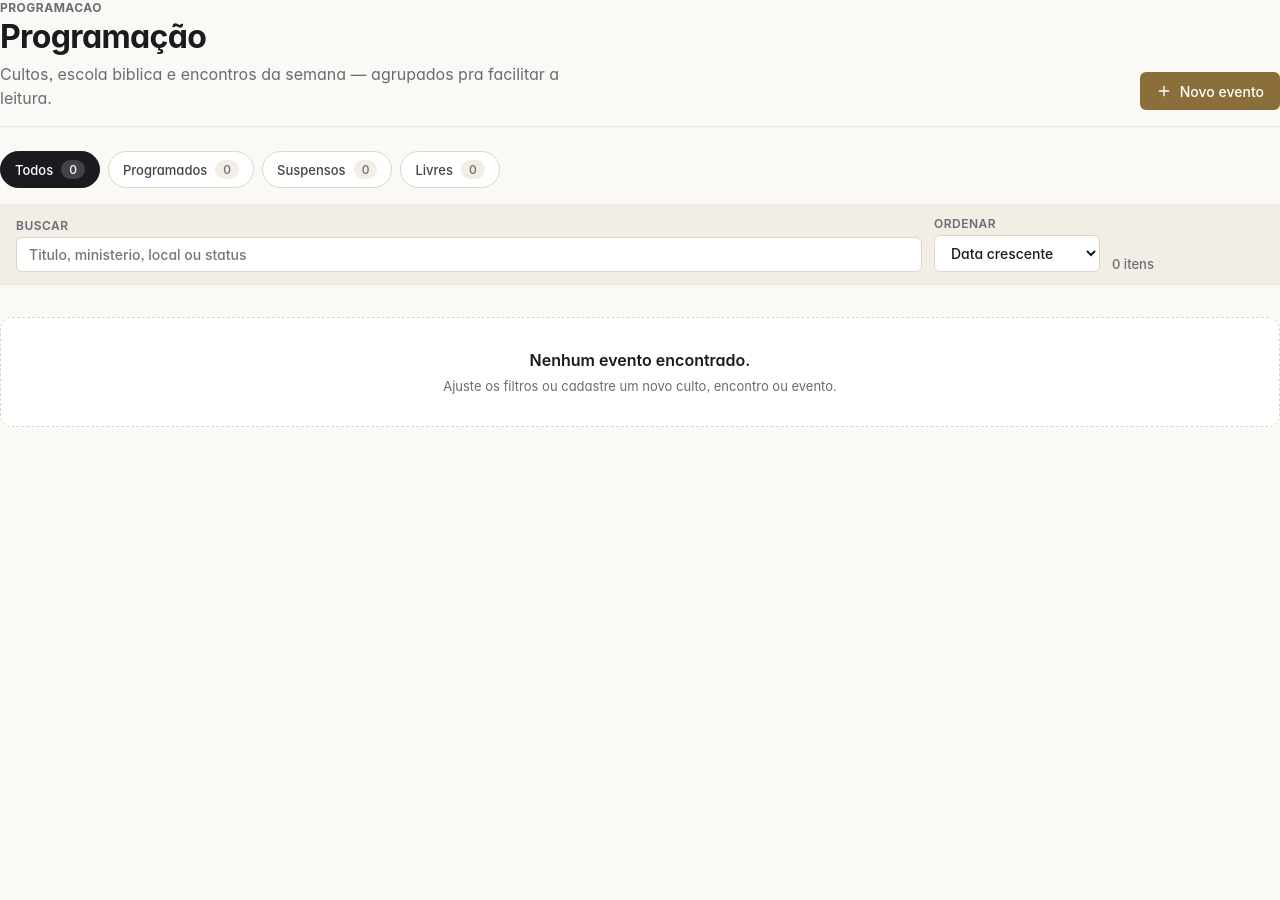
Test: ScheduleView form › shows a danger toast when save fails
Click the button "Novo evento".
click(1210, 91)  # box [1140,72,1279,110]
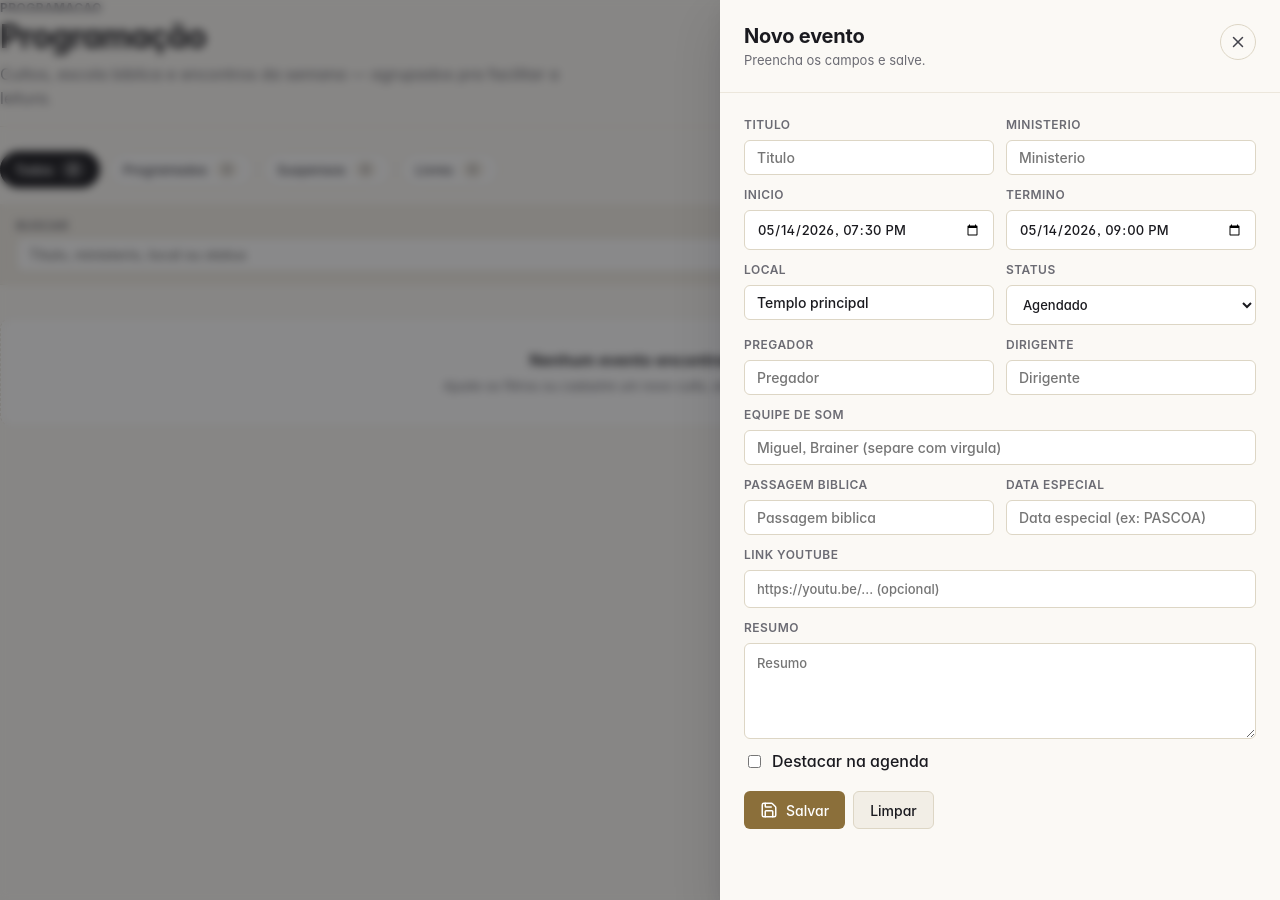
Type "Outro culto" into the field labelled "Titulo".
click(869, 158); type("Outro culto")  # box [744,140,994,175]
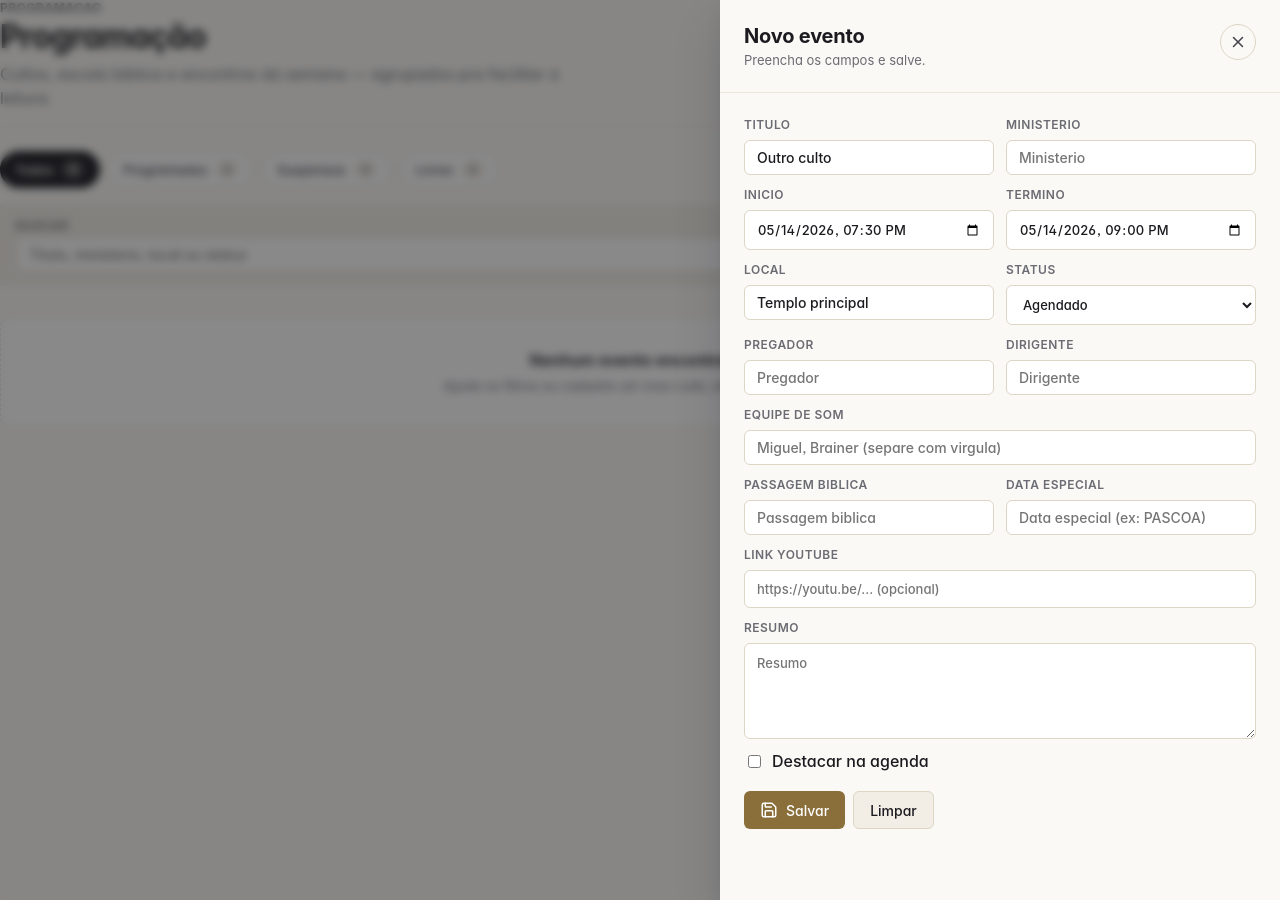
Type "Louvor" into the field labelled "Ministerio".
click(1131, 158); type("Louvor")  # box [1006,140,1256,175]
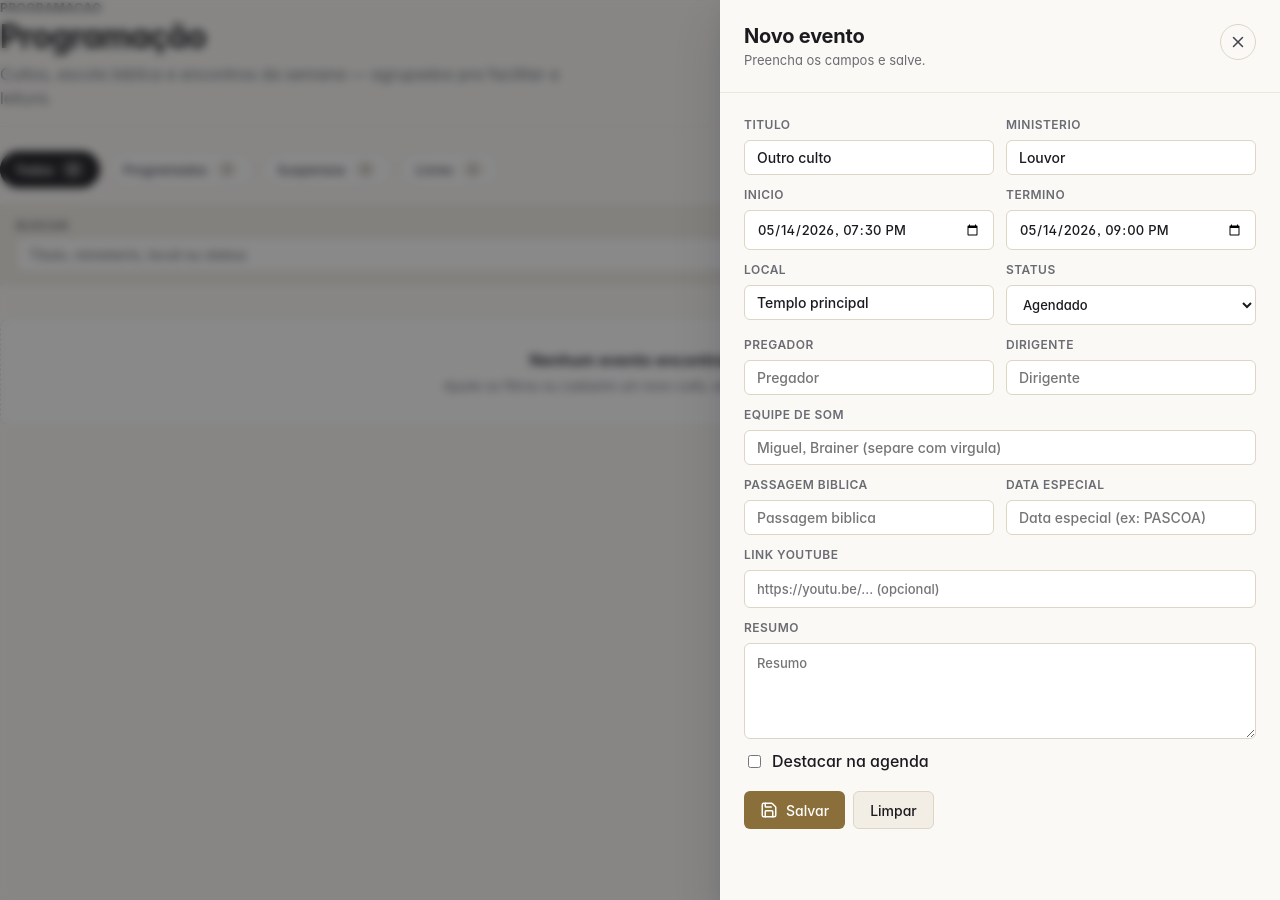
Submit the form named "salvar", box [744,117,1256,829]
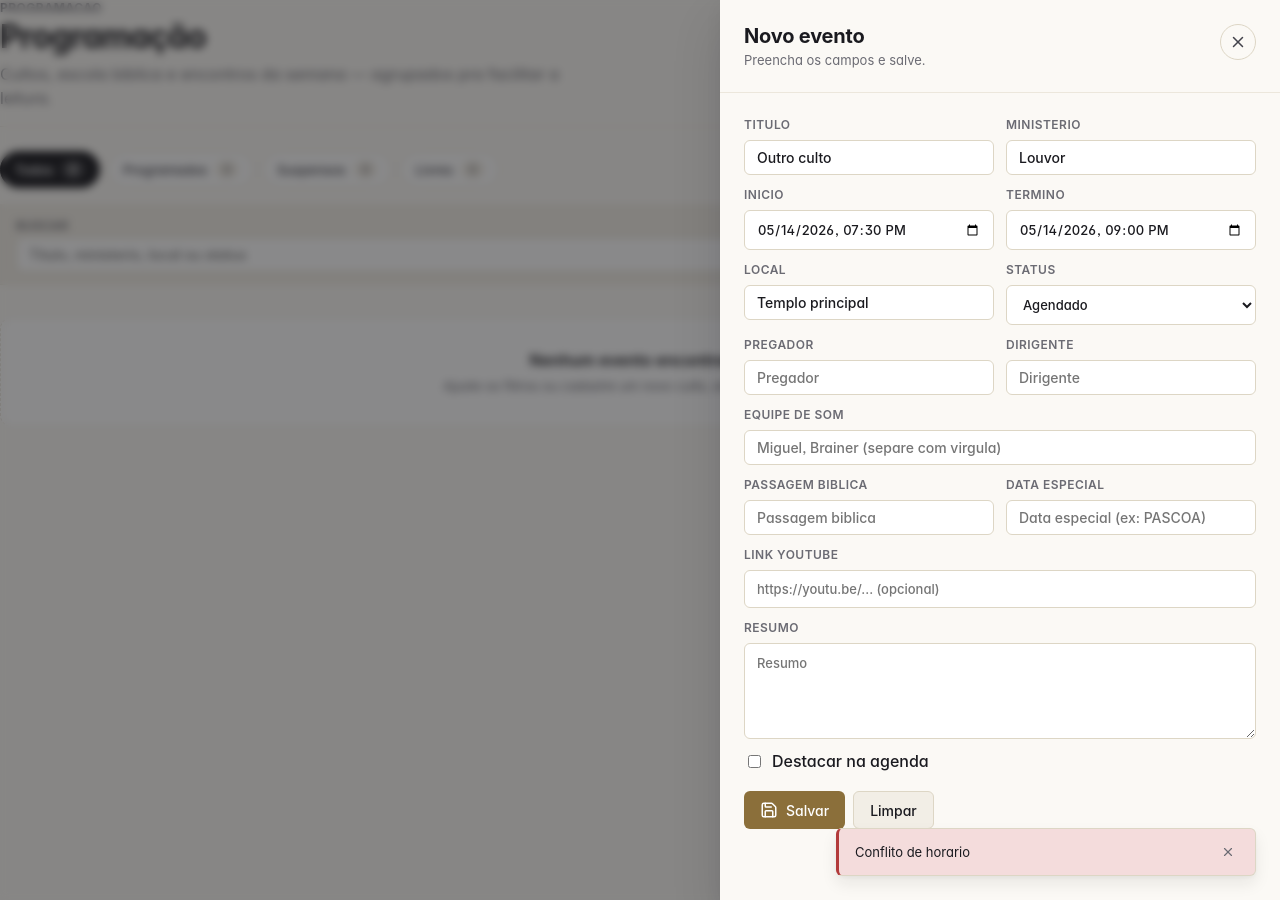
Expected: the text "Conflito de horario" is shown, [855,844,970,860]
